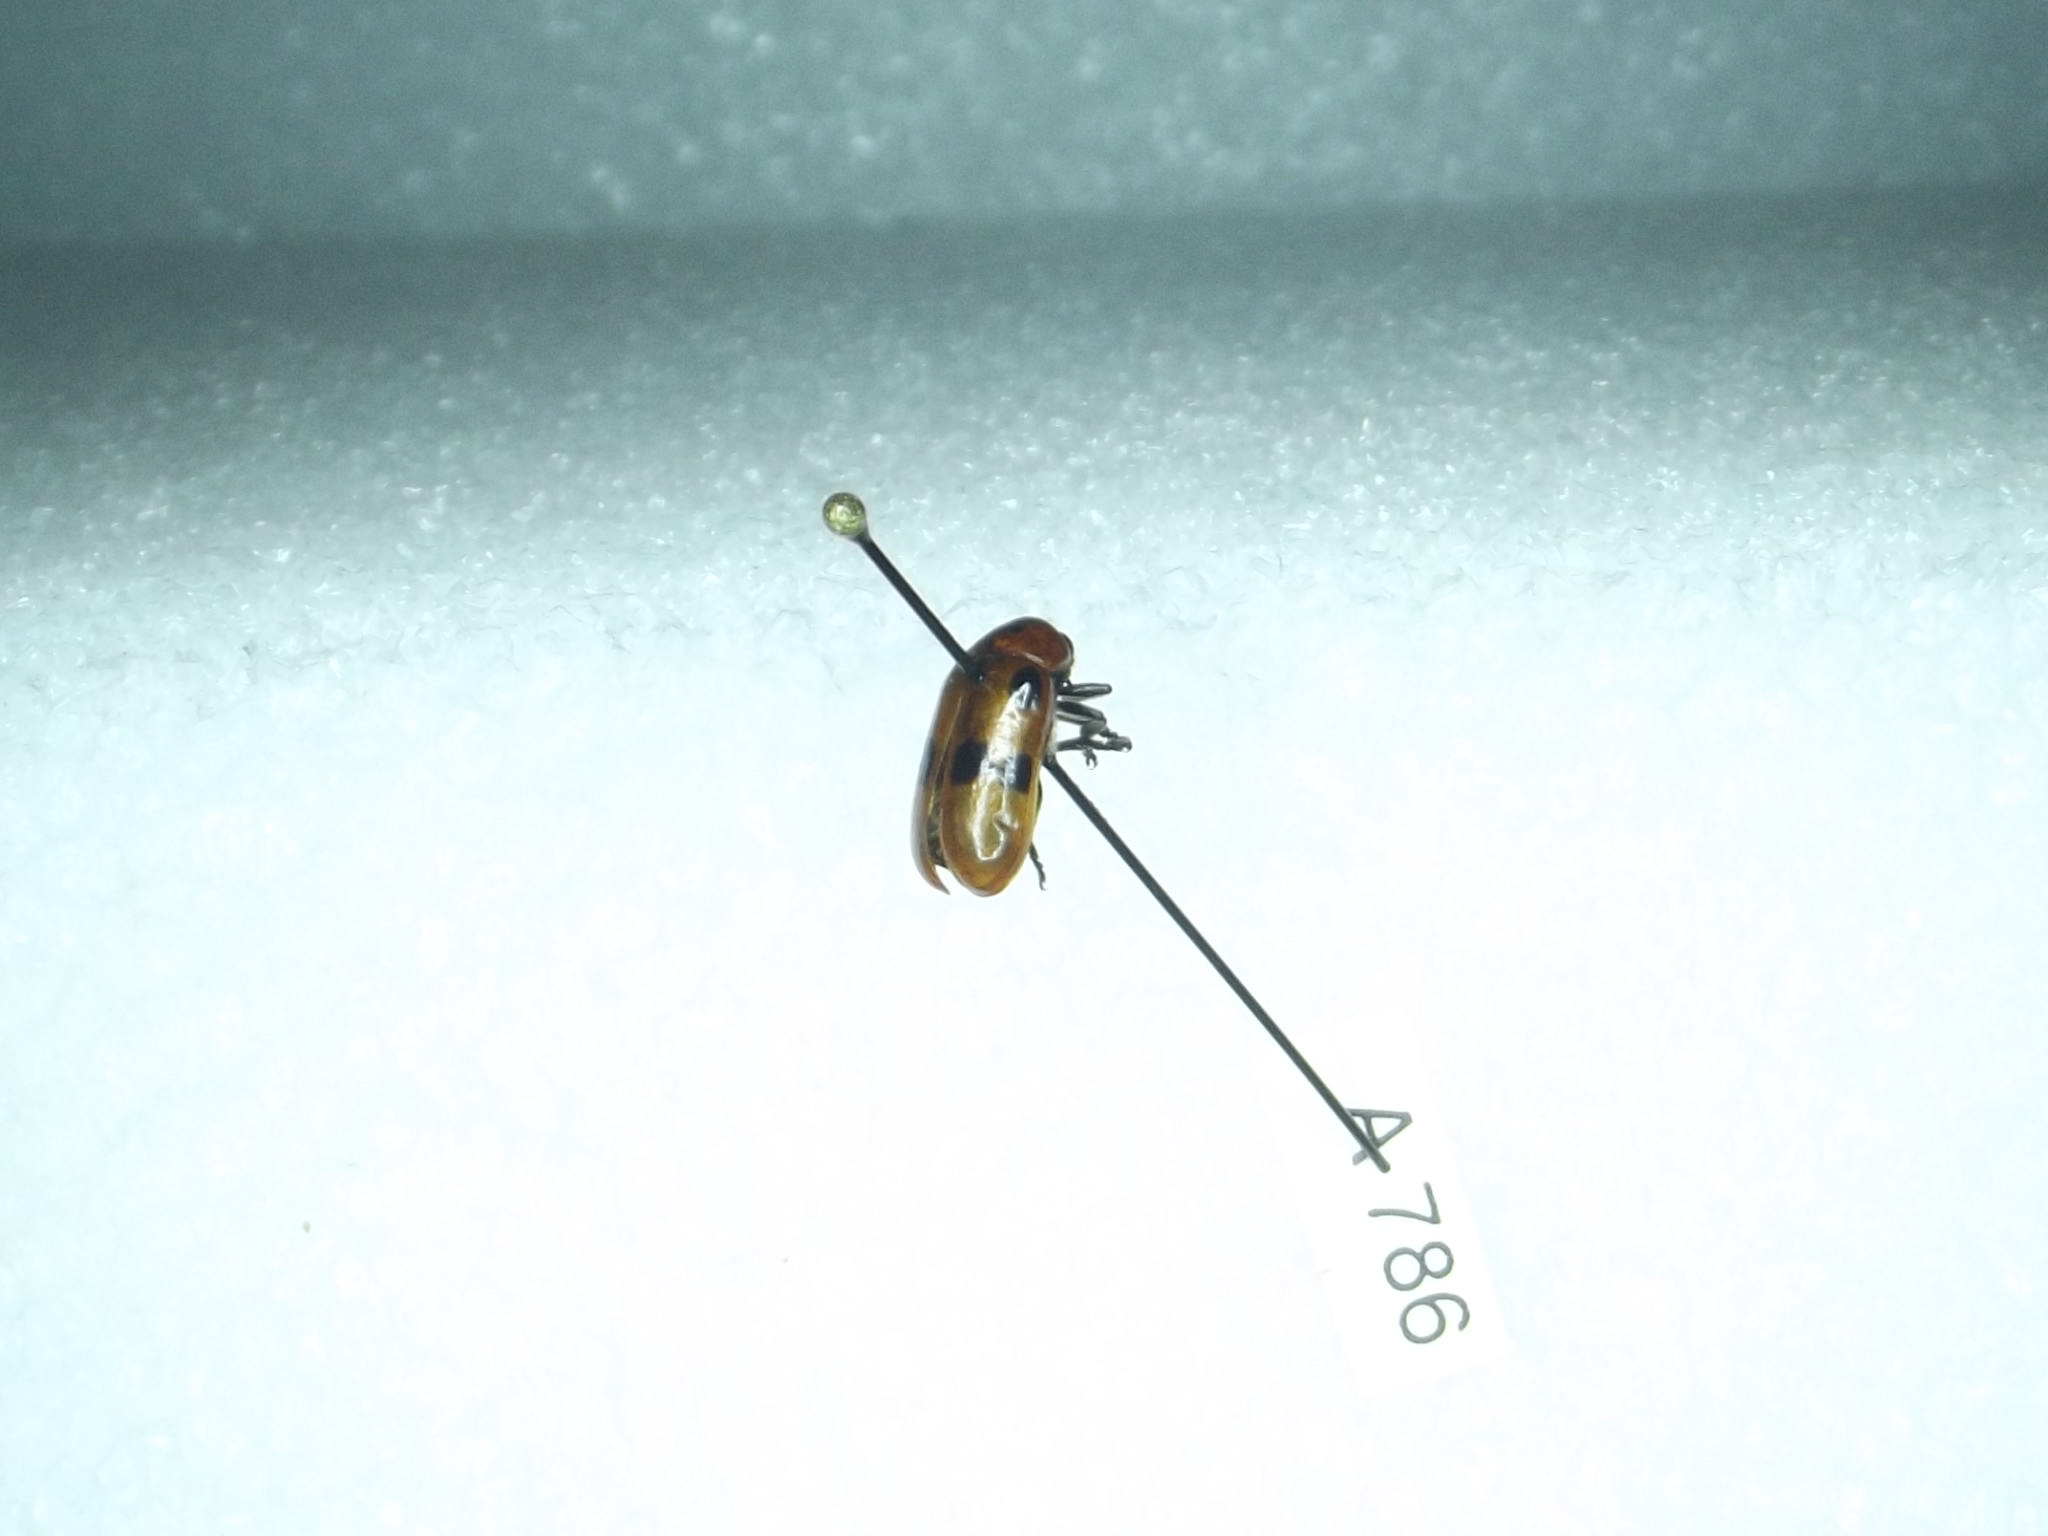Clytra_novempunctata: (898, 597, 1134, 908)
